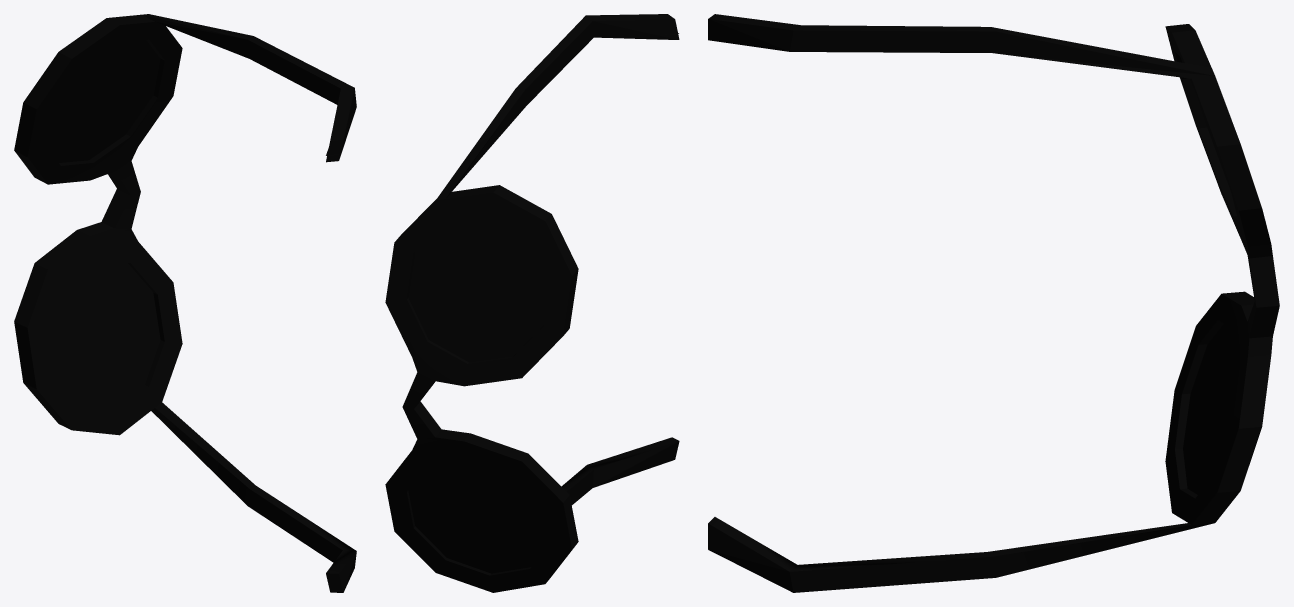
File: m_glasses_Toddy.fbx
3 views of the same model, side by side, from view 1: azimuth 30°, elevation 25°; view 2: azimuth 150°, elevation 25°; view 3: azimuth 270°, elevation 25° (orthographic). The views are drawn at different scales.
Visible parts, largest first — view 1: M_Glasses_Reading; view 2: M_Glasses_Reading; view 3: M_Glasses_Reading.
Part boxes in pixels (x1=…): M_Glasses_Reading: x1=14, y1=14, x2=356, y2=592; M_Glasses_Reading: x1=385, y1=14, x2=679, y2=592; M_Glasses_Reading: x1=708, y1=14, x2=1279, y2=592.
Bounding box in the file's own units: 0.0434 × 0.119 × 0.1096.
